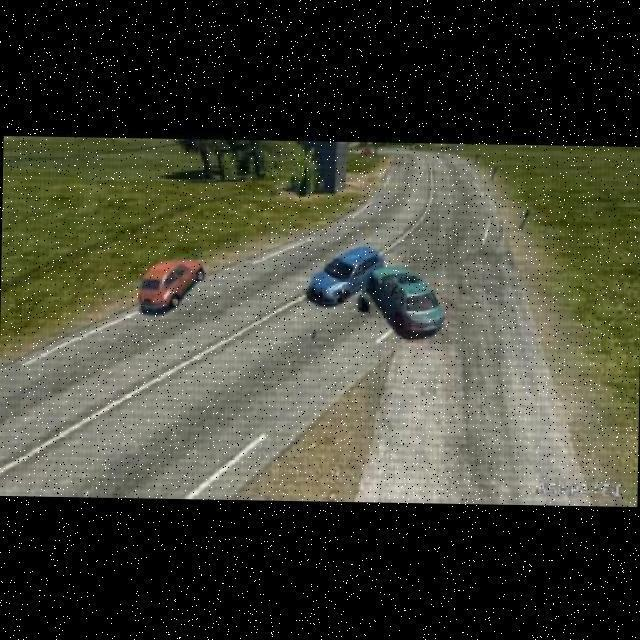accident: (303, 243, 445, 339)
